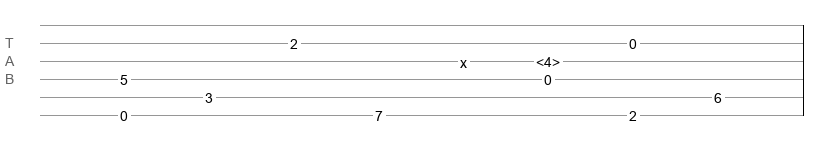0: (120, 108, 128, 118), (544, 72, 552, 82), (629, 36, 637, 46)
2: (290, 36, 298, 46), (629, 108, 637, 118)
3: (205, 90, 213, 100)
5: (120, 72, 128, 82)
6: (714, 90, 722, 100)
7: (375, 108, 383, 118)
harmonic: (536, 54, 560, 64)
x: (460, 55, 467, 63)
